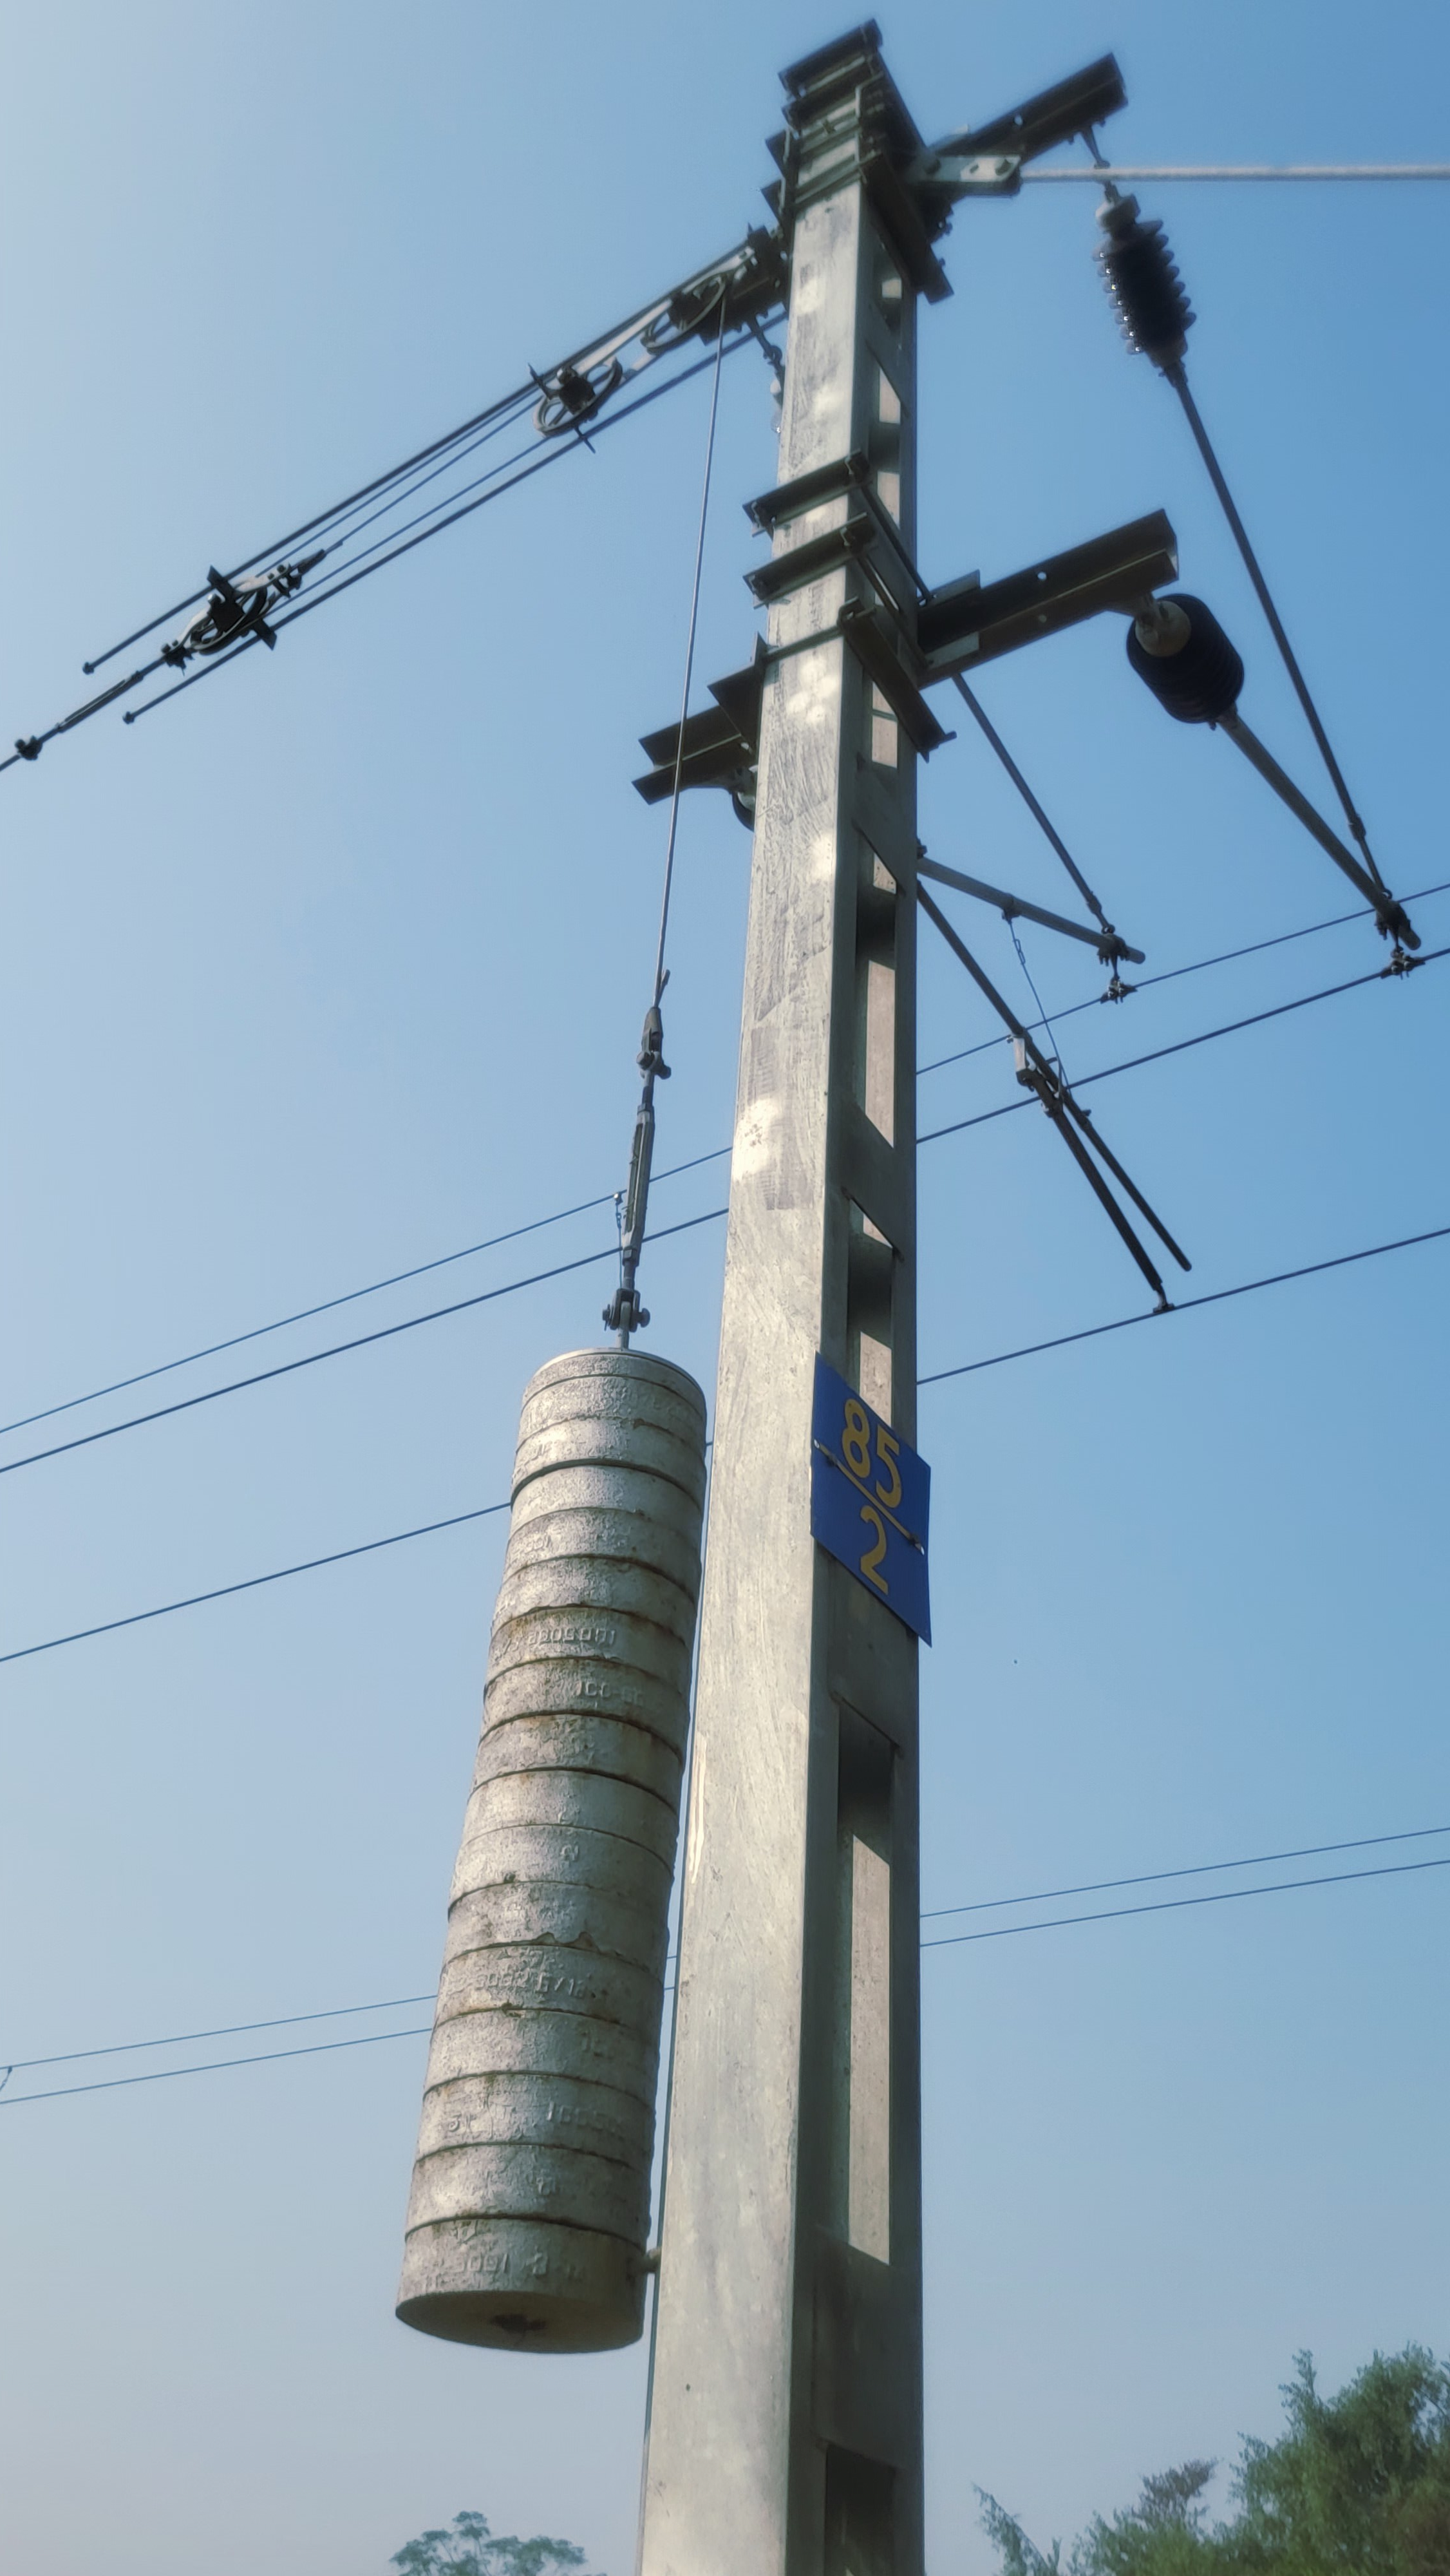counter weight: (385, 1315, 686, 2358), (889, 547, 1004, 571)
pulley: (638, 226, 764, 357), (500, 333, 626, 446), (179, 554, 329, 648)
